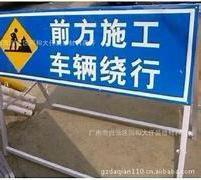sign: (1, 5, 196, 104)
